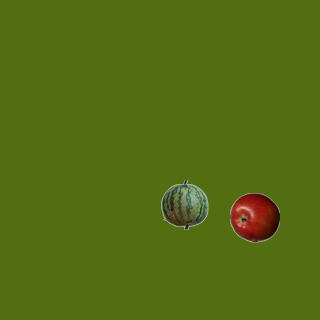Apple Braeburn: (229, 192, 279, 242)
Watermelon: (159, 179, 209, 229)
